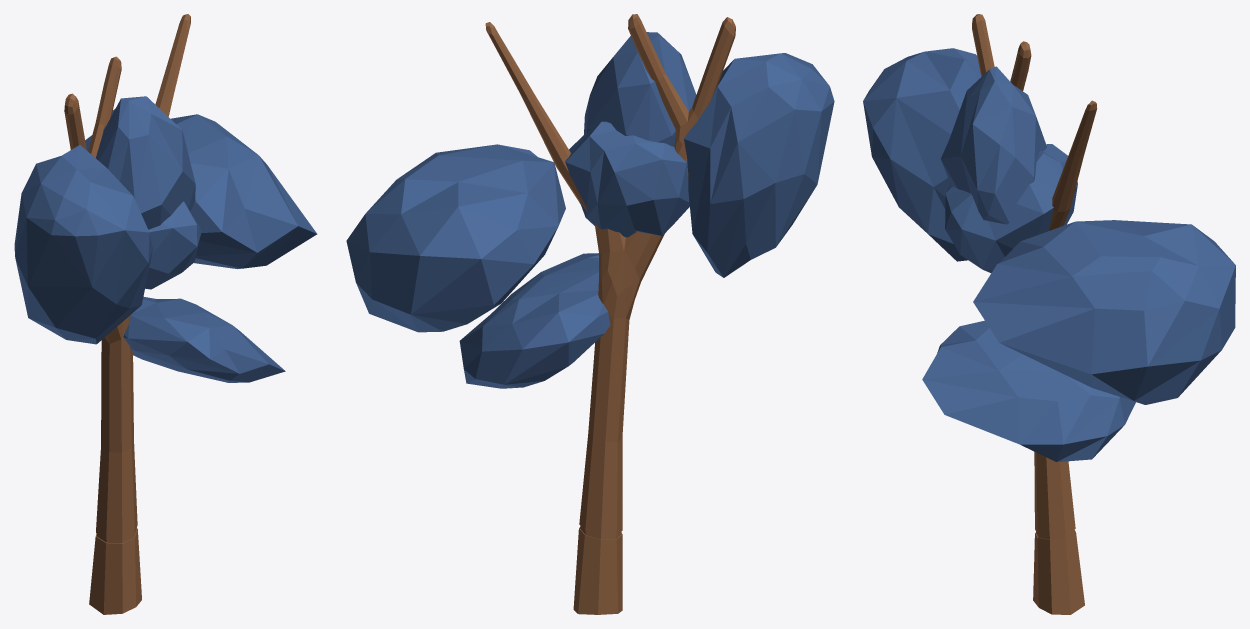
The model's file is tree-winter-complete-6-010.glb.
The picture shows the model from 3 angles, left to right: view 1: azimuth 30°, elevation 25°; view 2: azimuth 150°, elevation 25°; view 3: azimuth 270°, elevation 25°; orthographic projection. The views are drawn at different scales.
Visible parts, largest first — view 1: TREE 6.005_204, TREE 6.004_205; view 2: TREE 6.005_204, TREE 6.004_205; view 3: TREE 6.005_204, TREE 6.004_205.
Part boxes in pixels (x1=…): TREE 6.005_204: x1=14, y1=96, x2=317, y2=382; TREE 6.004_205: x1=64, y1=14, x2=190, y2=614; TREE 6.005_204: x1=346, y1=32, x2=834, y2=388; TREE 6.004_205: x1=485, y1=14, x2=735, y2=614; TREE 6.005_204: x1=863, y1=48, x2=1235, y2=462; TREE 6.004_205: x1=972, y1=14, x2=1097, y2=614.
Bounding box in the file's own units: 0.9337 × 1.44 × 0.8774.
